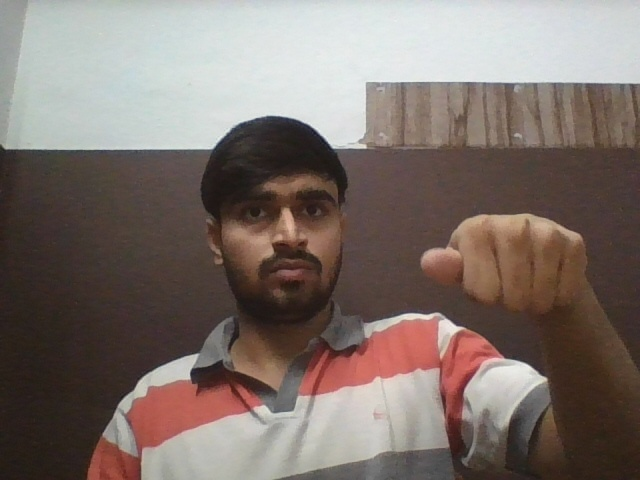Yes: (420, 212, 588, 319)
